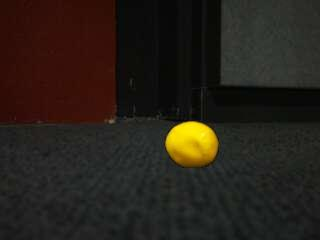Lemon: (165, 120, 219, 168)
